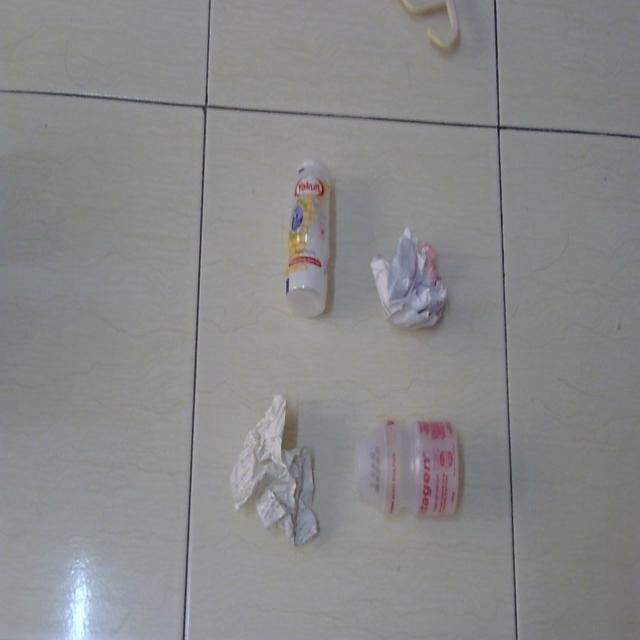paperrotation: (227, 394, 325, 550), (371, 223, 448, 341)
plastic_laydown_0rotation: (350, 416, 462, 518)
plastic_laydown_90rotation: (286, 146, 336, 326)
